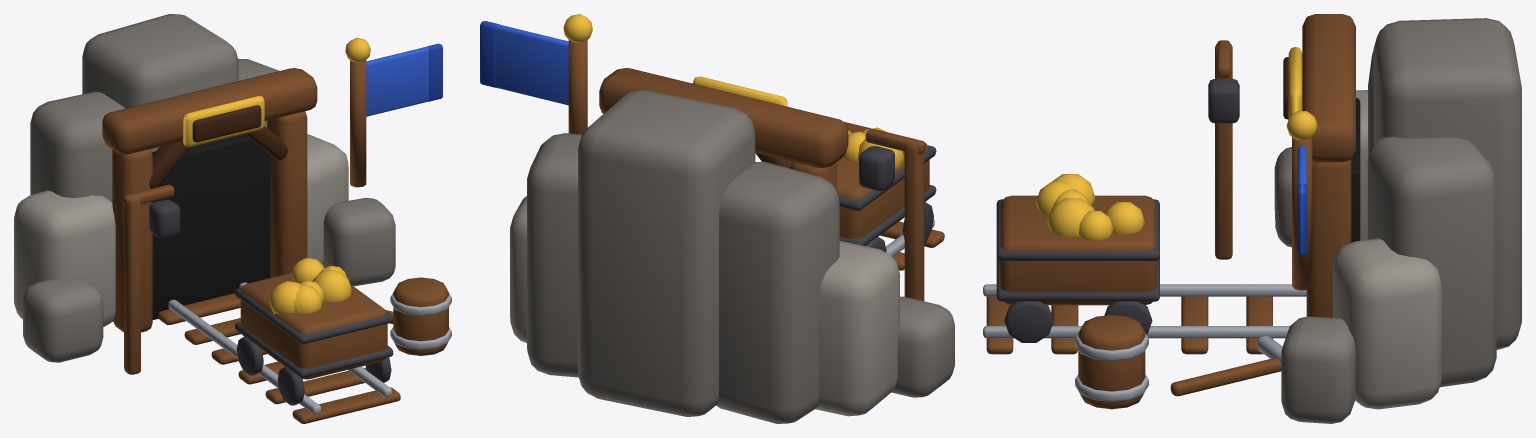
Rendered from Mine.glb.
The picture shows the model from 3 angles, left to right: view 1: azimuth 30°, elevation 25°; view 2: azimuth 150°, elevation 25°; view 3: azimuth 270°, elevation 25°; orthographic projection. The views are drawn at different scales.
Parts seen in each view (by area): view 1: Mine; view 2: Mine; view 3: Mine.
Part boxes in pixels (x1=…): Mine: x1=14, y1=14, x2=451, y2=423; Mine: x1=480, y1=14, x2=954, y2=423; Mine: x1=983, y1=14, x2=1521, y2=423.
Bounding box in the file's own units: 2.51 × 1.47 × 2.41.
